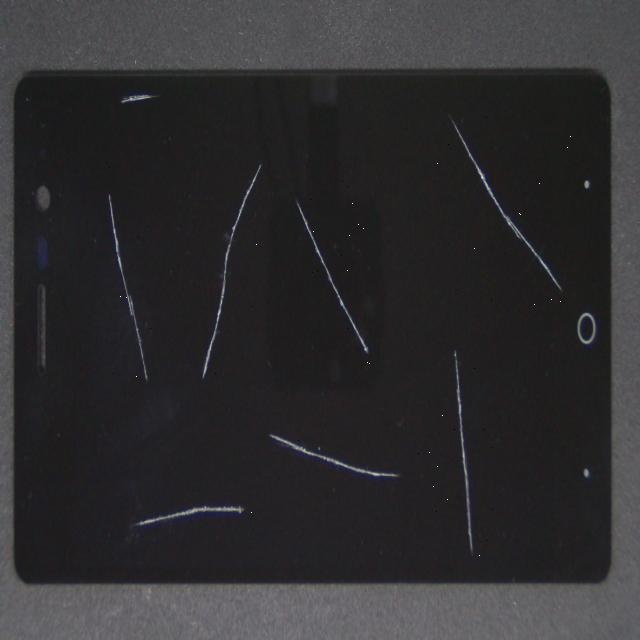scratch: (185, 191, 555, 572), (251, 164, 640, 523), (142, 195, 389, 640), (78, 164, 285, 574), (246, 19, 640, 183), (60, 246, 174, 640), (79, 73, 182, 255), (101, 45, 210, 136)
